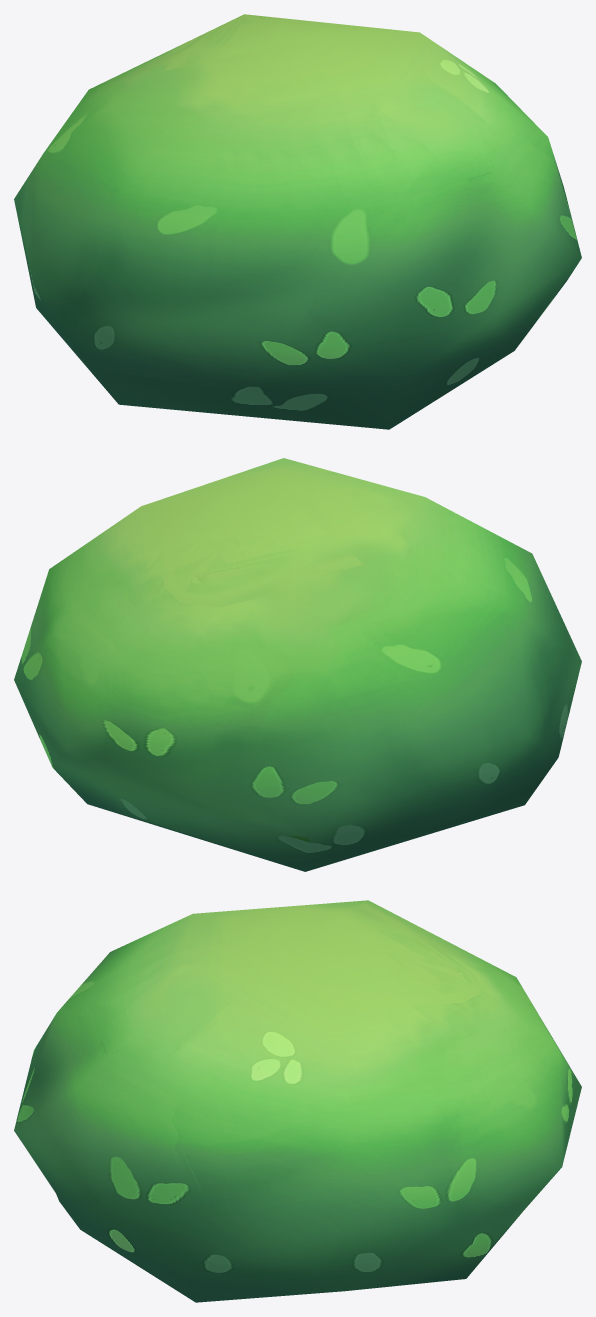
Rendered from bush_1.gltf.
The picture shows the model from 3 angles, top to bottom: view 1: azimuth 30°, elevation 25°; view 2: azimuth 150°, elevation 25°; view 3: azimuth 270°, elevation 25°; orthographic projection. The views are drawn at different scales.
Visible parts, largest first — view 1: Bush1Mesh; view 2: Bush1Mesh; view 3: Bush1Mesh.
Boxes of the visible parts, box(x1,y1,x2,y2) form: Bush1Mesh: box(14, 14, 581, 429); Bush1Mesh: box(14, 458, 581, 871); Bush1Mesh: box(14, 900, 581, 1302).
Size of the model in its own units: 1.28 by 0.7071 by 1.26.
Materials: 1 (1 with a texture image).
